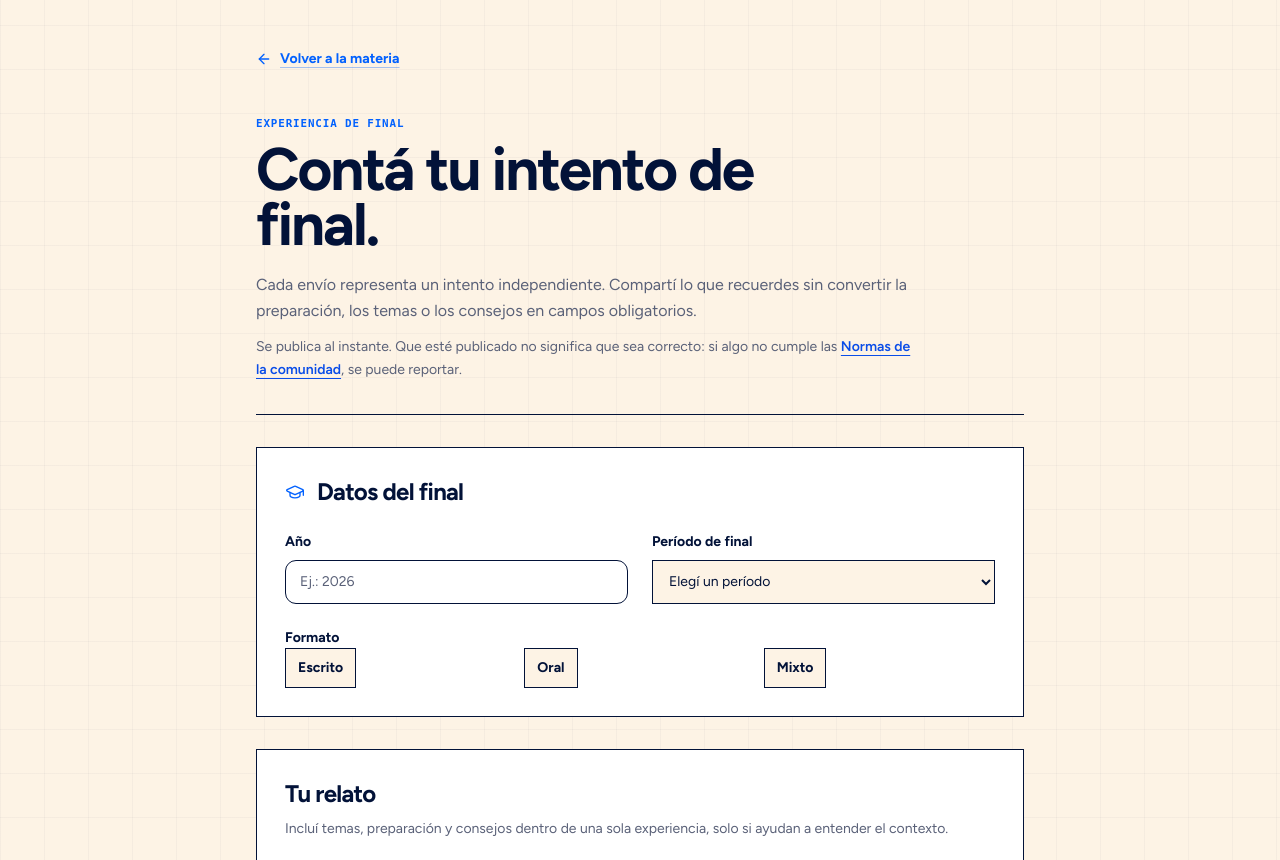
ExamForm › shows how long to wait when publishing too often
Type "2026" into the number field labelled "Año" at (456, 582), box [285,560,628,604]
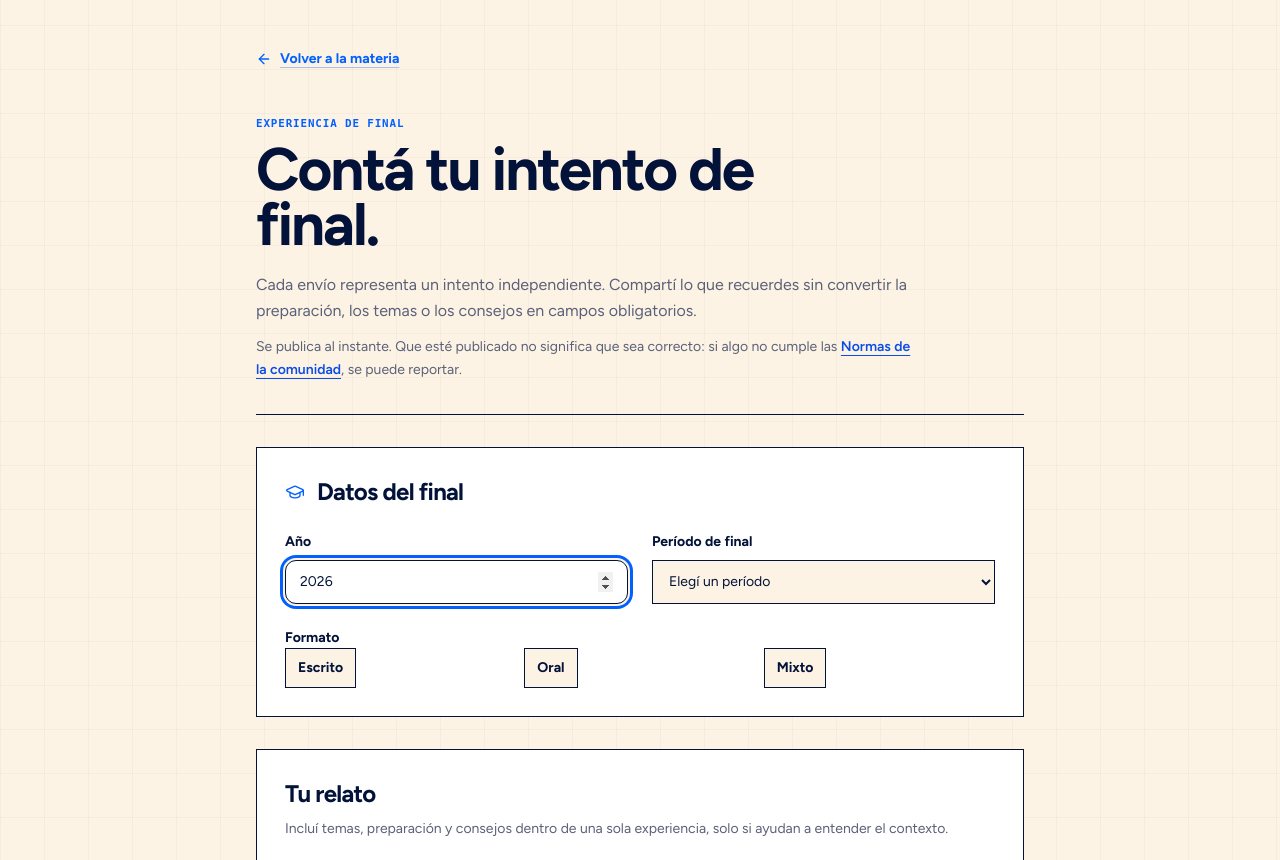
Select "Julio" in the dropdown labelled "Período de final" at (824, 582), box [652,560,995,604]
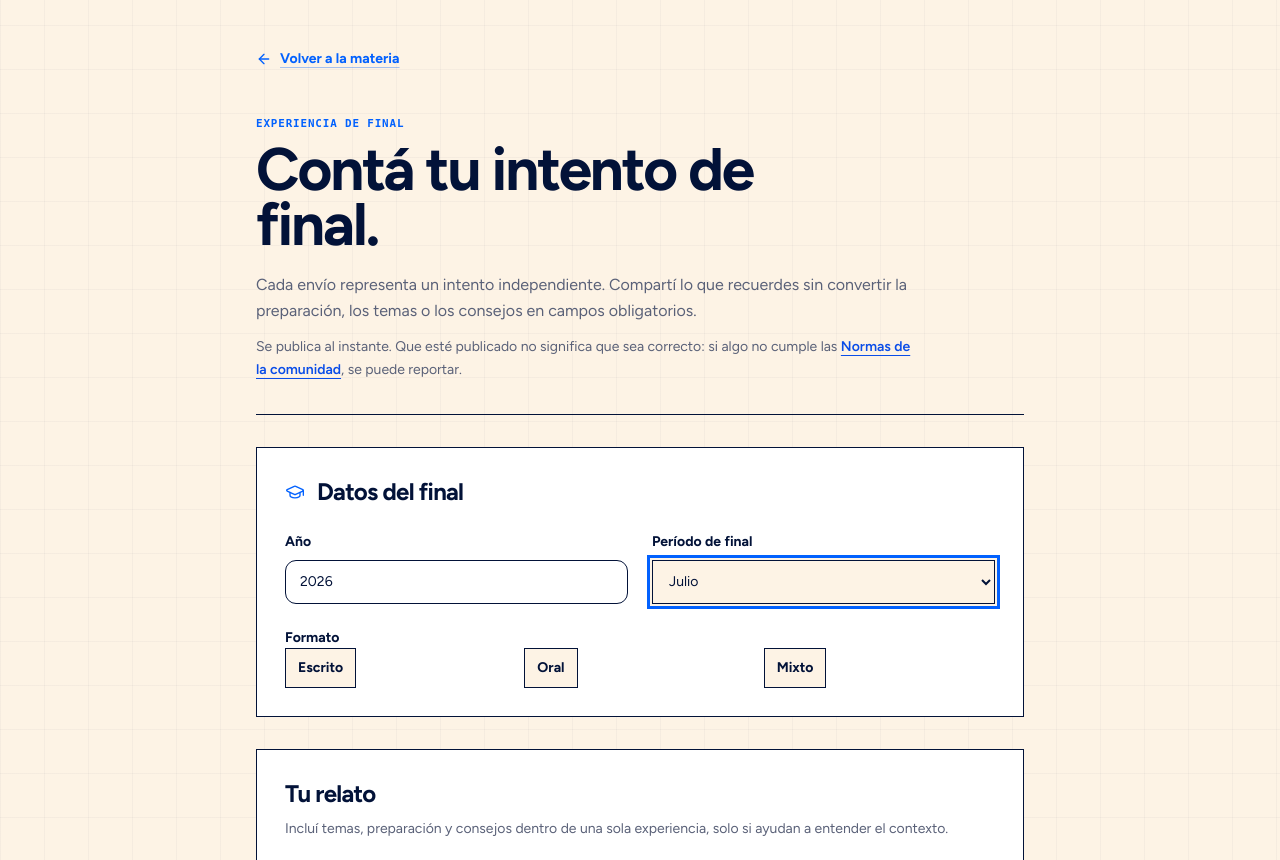
Click the radio button labelled "Oral" at (551, 668), box [524,648,578,688]
(page scrolled)
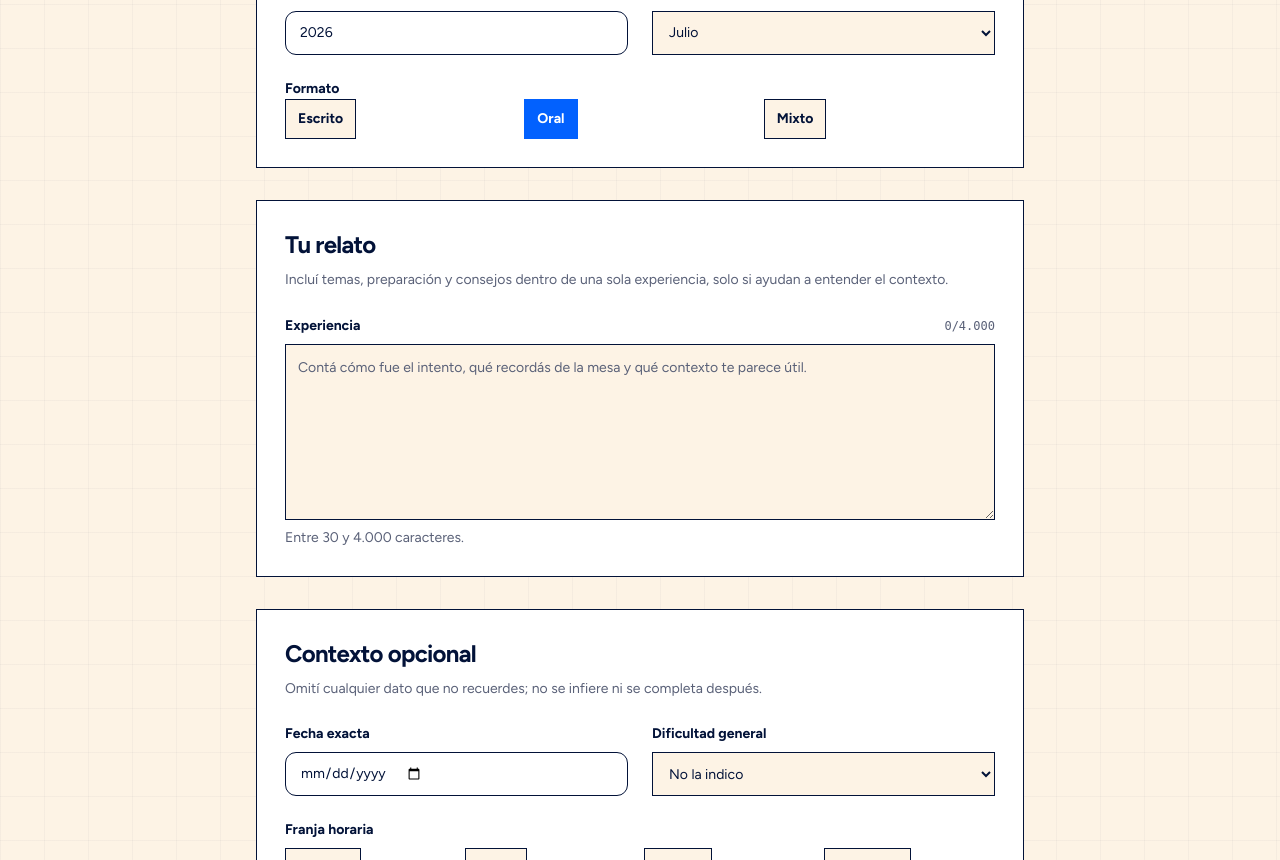
Type "La mesa recorrió grafos, complejidad y una defensa oral de las estructuras elegidas." into the text box labelled "Experiencia" at (640, 432), box [285,344,995,520]
(page scrolled)
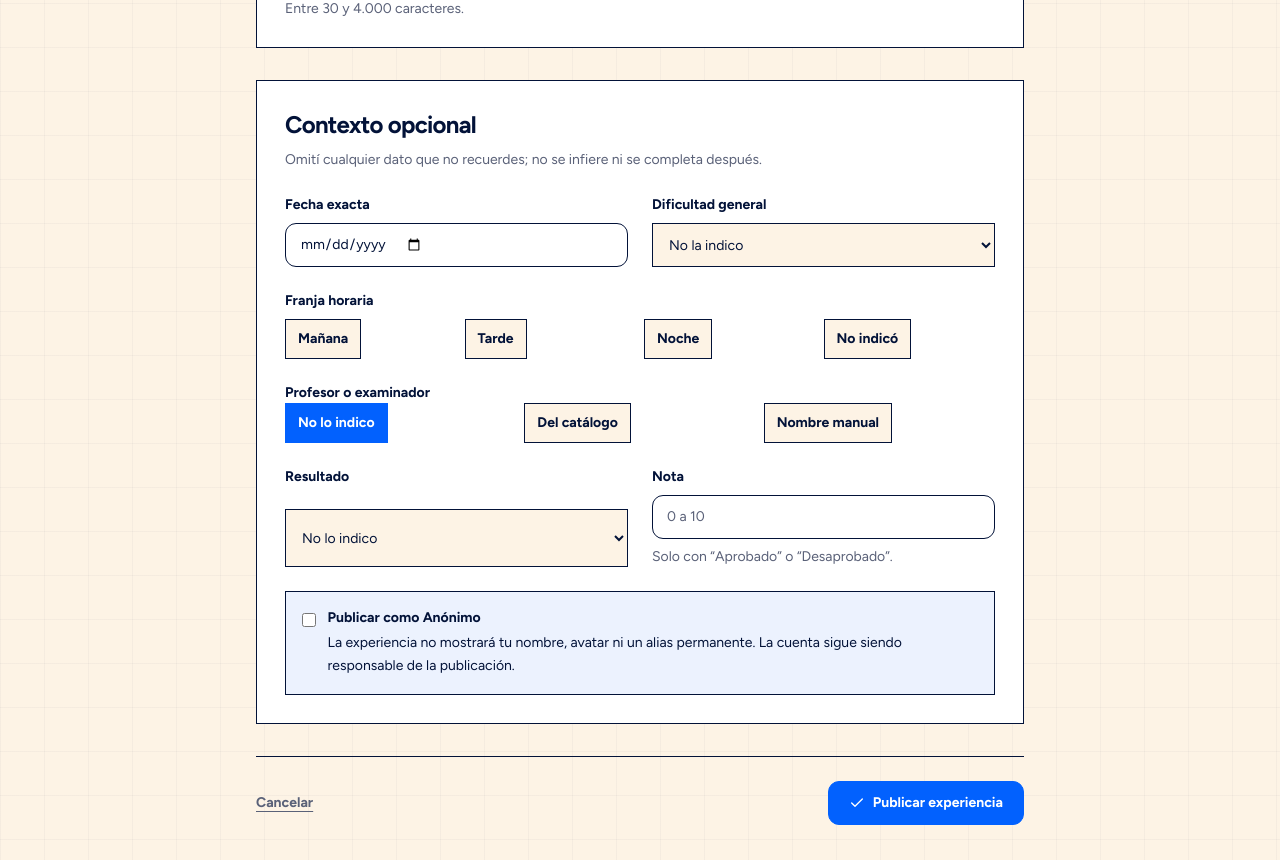
Click the button "Publicar experiencia" at (926, 803), box [828,781,1024,825]
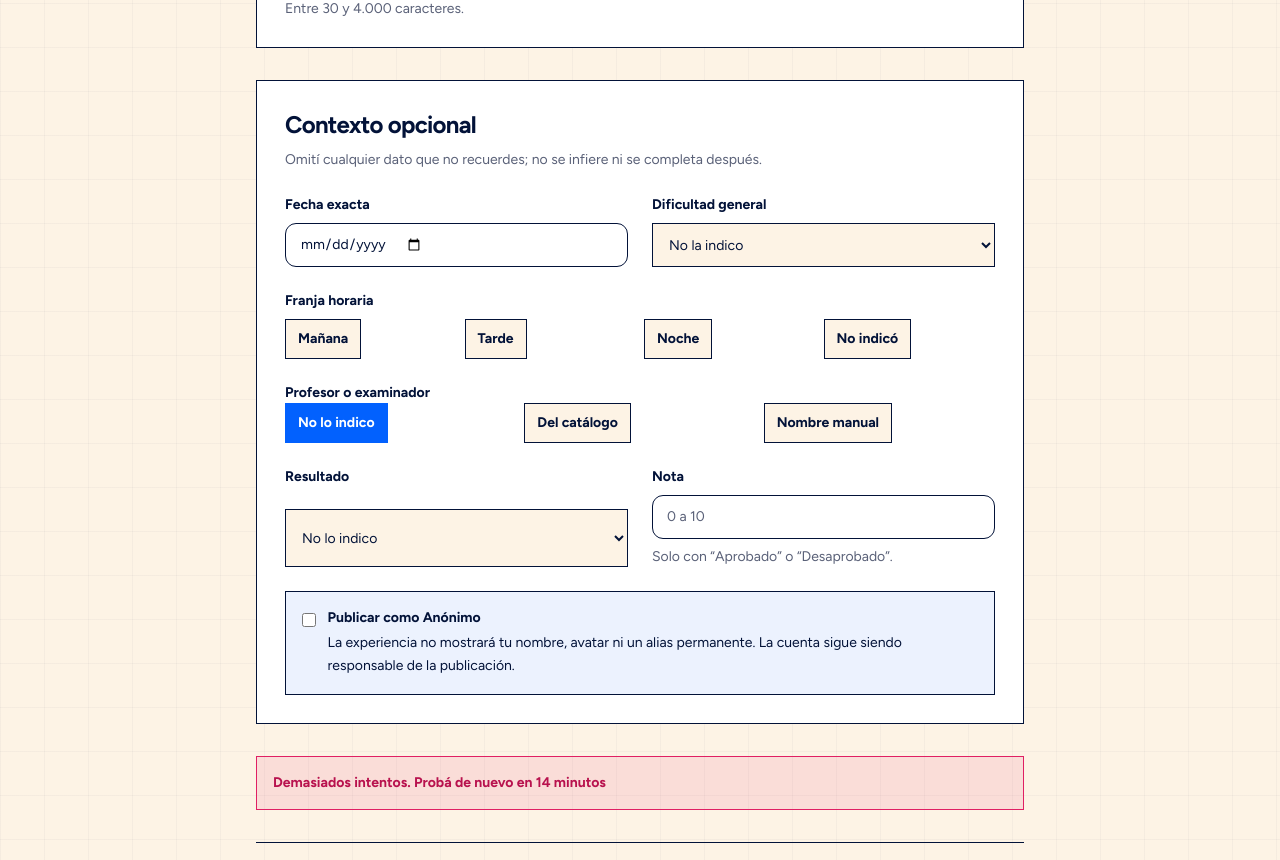
Now the text "Demasiados intentos. Probá de nuevo en 14 minutos" is shown, box [256,756,1024,810]
